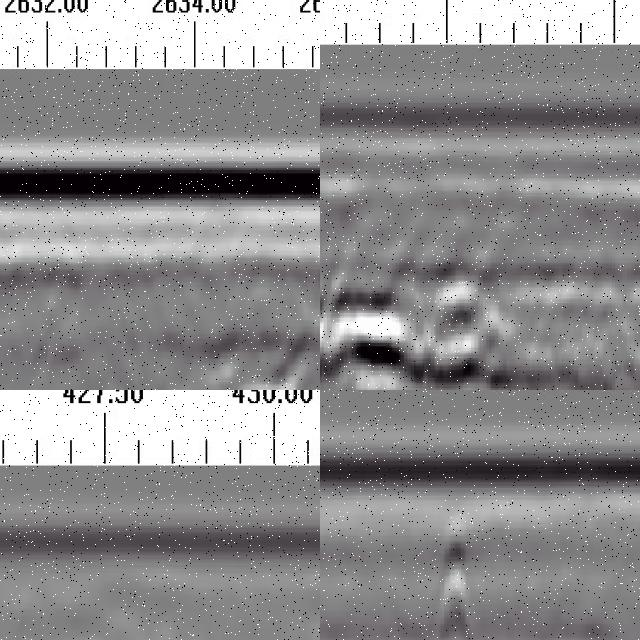crack: (435, 506, 469, 640)
loose: (321, 250, 554, 391), (220, 353, 321, 391)
